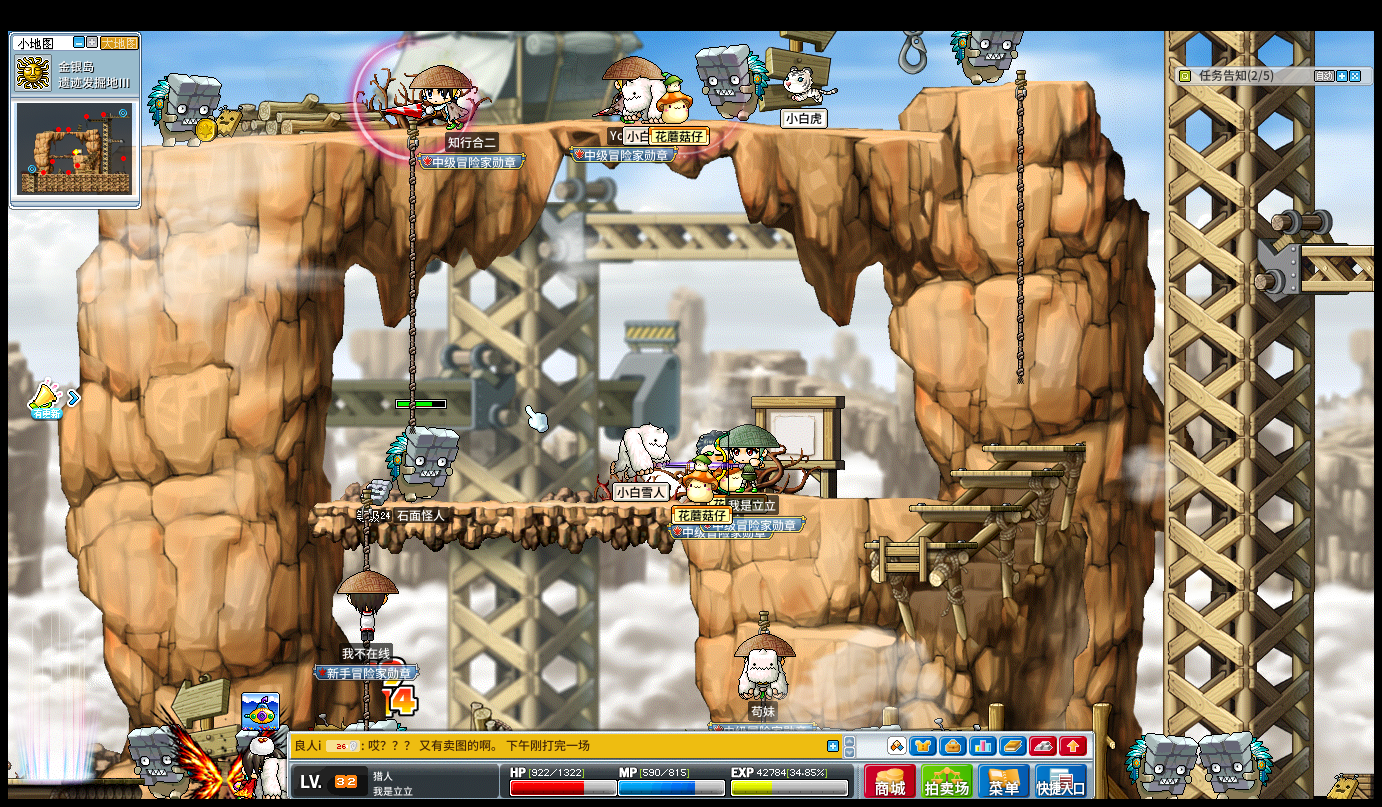floor: (129, 115, 940, 146), (313, 498, 695, 511), (308, 498, 610, 510), (911, 75, 1096, 90), (789, 624, 897, 648), (946, 464, 1063, 477), (945, 468, 1057, 481), (1297, 240, 1376, 258), (908, 504, 1020, 516), (808, 495, 942, 505), (982, 443, 1085, 453), (865, 541, 976, 550)
monster: (692, 42, 768, 124), (384, 425, 459, 503), (149, 72, 221, 146), (1199, 732, 1272, 794), (1124, 733, 1194, 795), (951, 26, 1019, 88), (128, 724, 178, 793)
rope: (1013, 65, 1028, 383), (405, 120, 418, 425), (1013, 273, 1025, 382), (359, 488, 372, 570)
